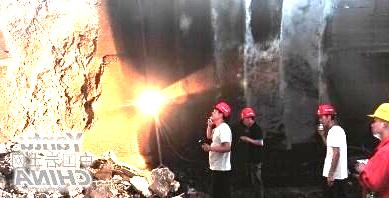helmet: (366, 102, 389, 139), (315, 102, 337, 127), (210, 101, 232, 120), (238, 106, 256, 128)
